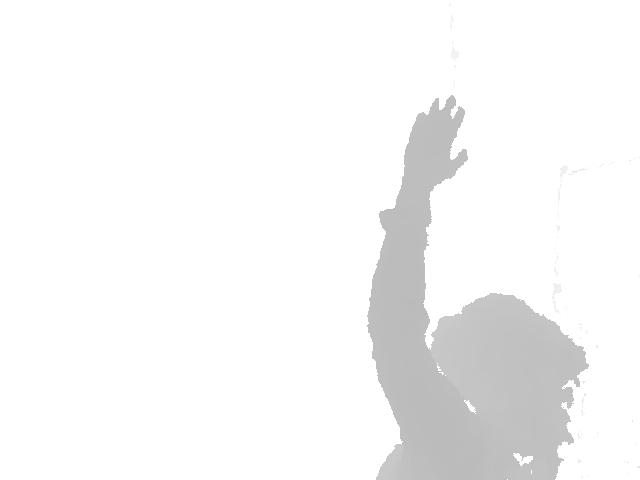hand: (399, 95, 468, 192)
head: (429, 291, 592, 449)
person: (366, 94, 591, 479)
